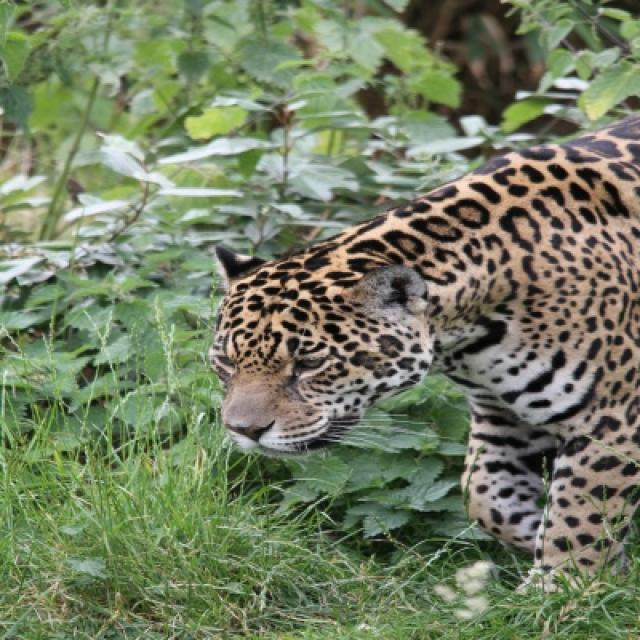Jaguar: (206, 114, 638, 584)
